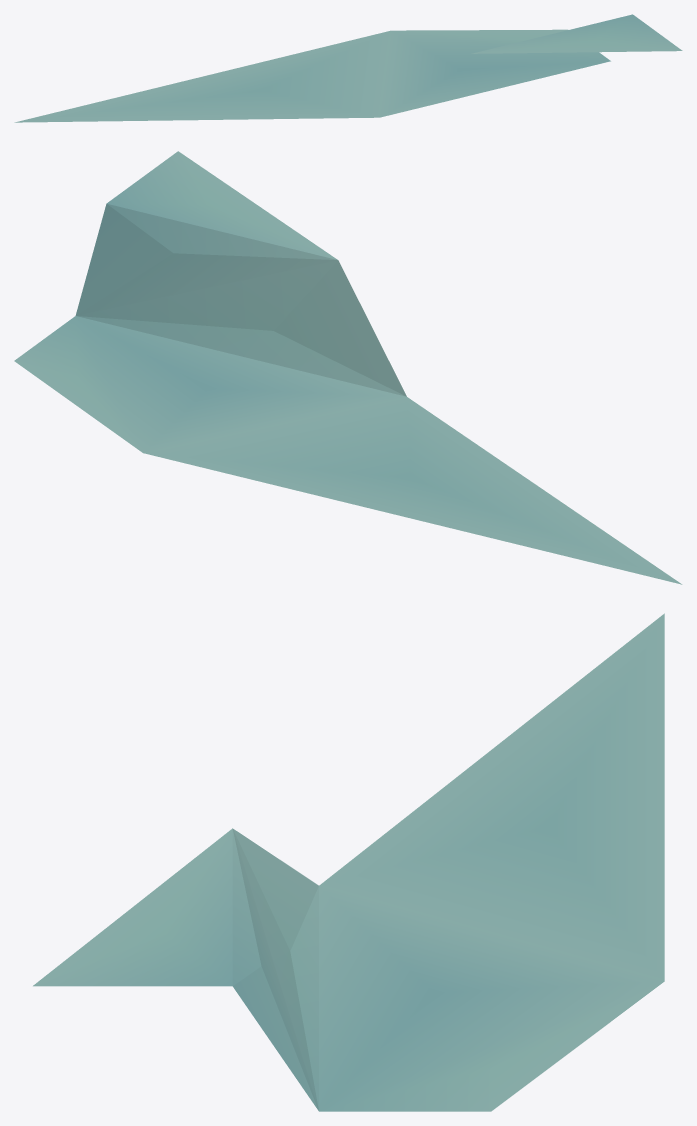
Rendered from water-19-4.glb.
3 views of the same model, one above another, from view 1: azimuth 30°, elevation 25°; view 2: azimuth 150°, elevation 25°; view 3: azimuth 270°, elevation 25° (orthographic). The views are drawn at different scales.
Bounding box in the file's own units: 13.65 × 1.6 × 7.32.
